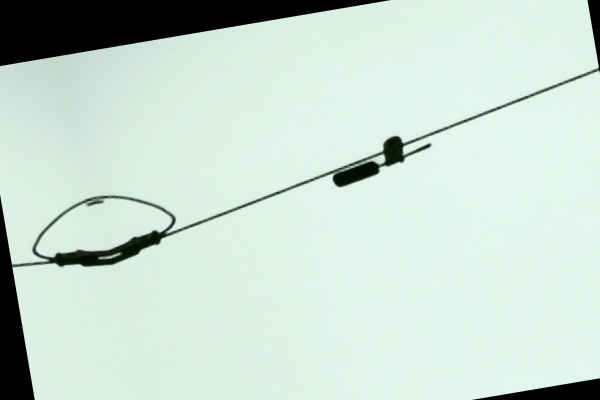damper_defect: (330, 131, 439, 191)
